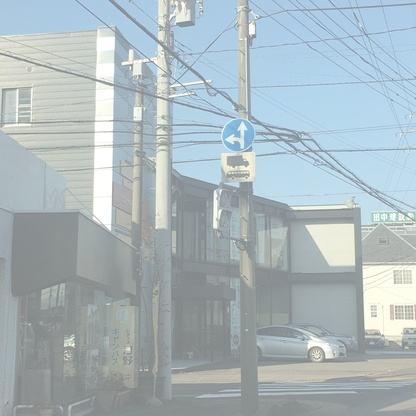Direction_sign: (225, 116, 255, 153)
